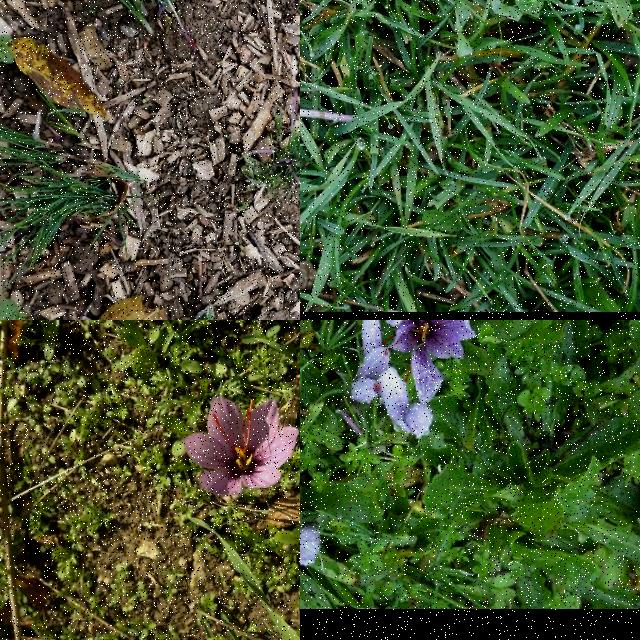flower: (184, 395, 300, 495), (387, 320, 477, 405), (300, 526, 322, 566)
overlap: (350, 320, 433, 440)
